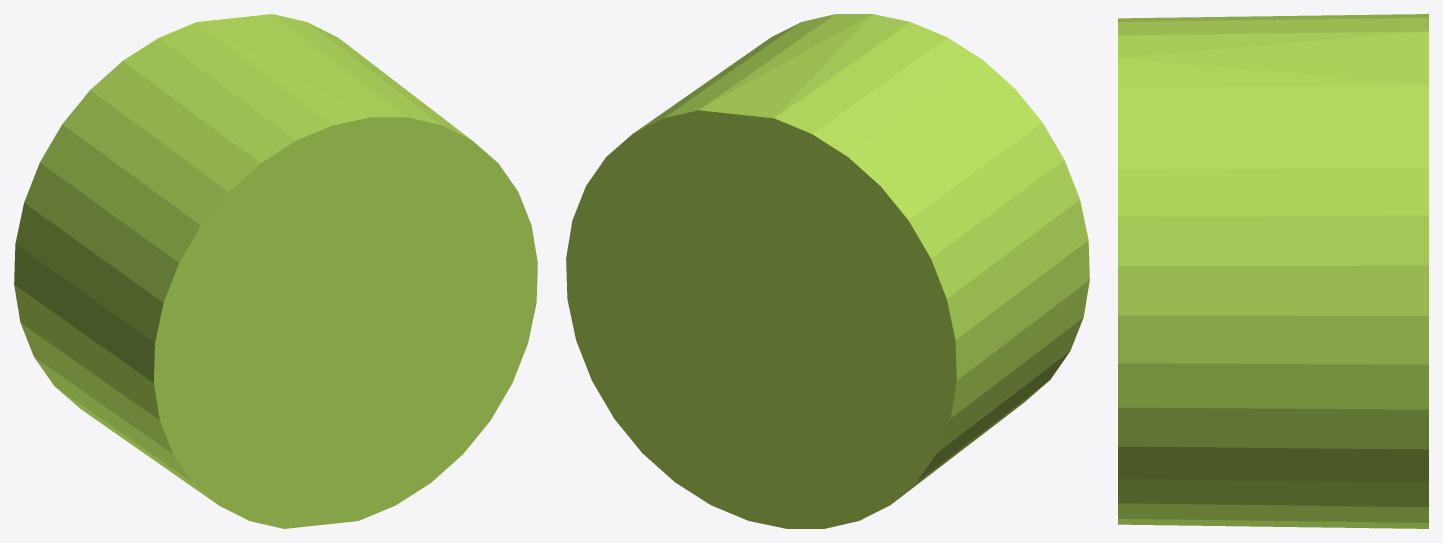
Rendered from ur10_e_link_5_coll_3.dae.
3 views of the same model, side by side, from view 1: azimuth 30°, elevation 25°; view 2: azimuth 150°, elevation 25°; view 3: azimuth 270°, elevation 25° (orthographic). The views are drawn at different scales.
Parts seen in each view (by area): view 1: node; view 2: node; view 3: node.
Boxes of the visible parts, box(x1,y1,x2,y2) form: node: box(14, 14, 537, 528); node: box(566, 14, 1089, 528); node: box(1118, 14, 1428, 528).
Size of the model in its own units: 0.0896 by 0.0896 by 0.0542.
